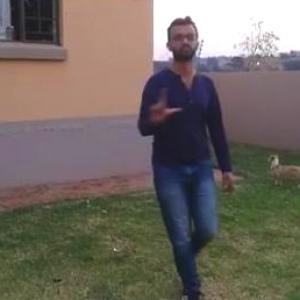land_hand: (144, 81, 183, 126)
